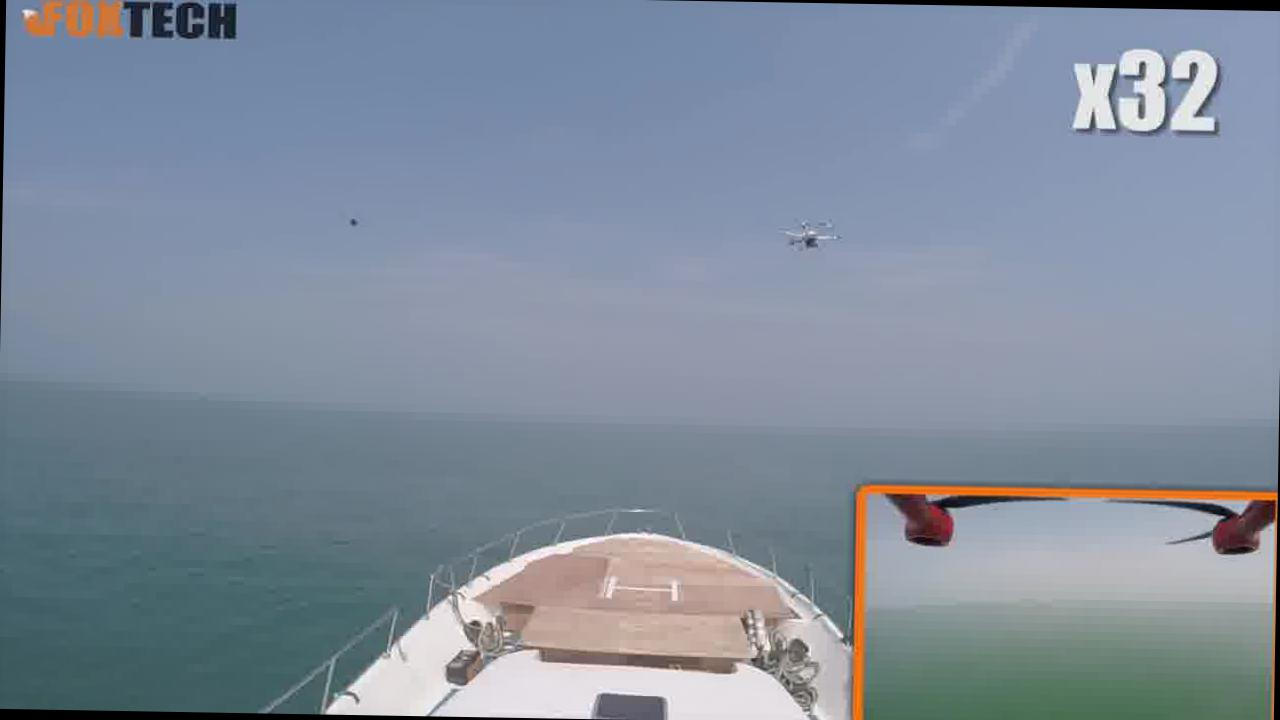drone: (761, 199, 854, 271), (323, 202, 382, 235)
